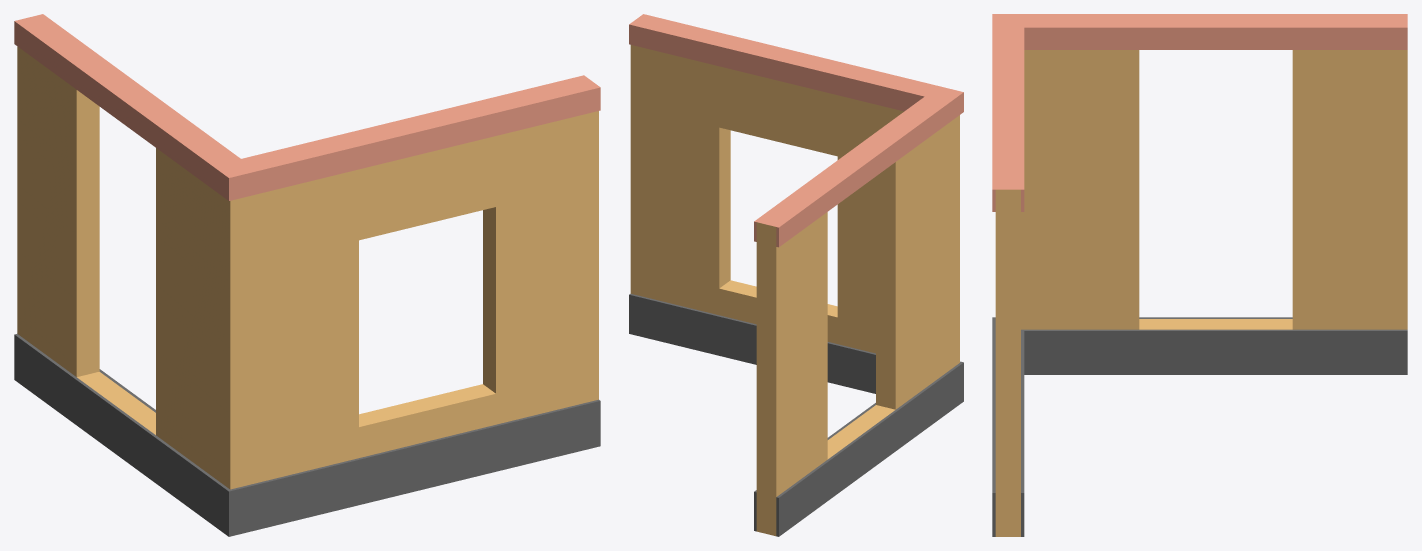
File: Wall04-06.fbx
The picture shows the model from 3 angles, left to right: view 1: azimuth 30°, elevation 25°; view 2: azimuth 150°, elevation 25°; view 3: azimuth 270°, elevation 25°; orthographic projection. The views are drawn at different scales.
Visible parts, largest first — view 1: Wall04-06; view 2: Wall04-06; view 3: Wall04-06.
Boxes of the visible parts, x1,y1,x2,y2 form: Wall04-06: (14,14,600,536); Wall04-06: (629,14,963,536); Wall04-06: (992,14,1407,536).
Size of the model in its own units: 3.25 by 3.25 by 3.
